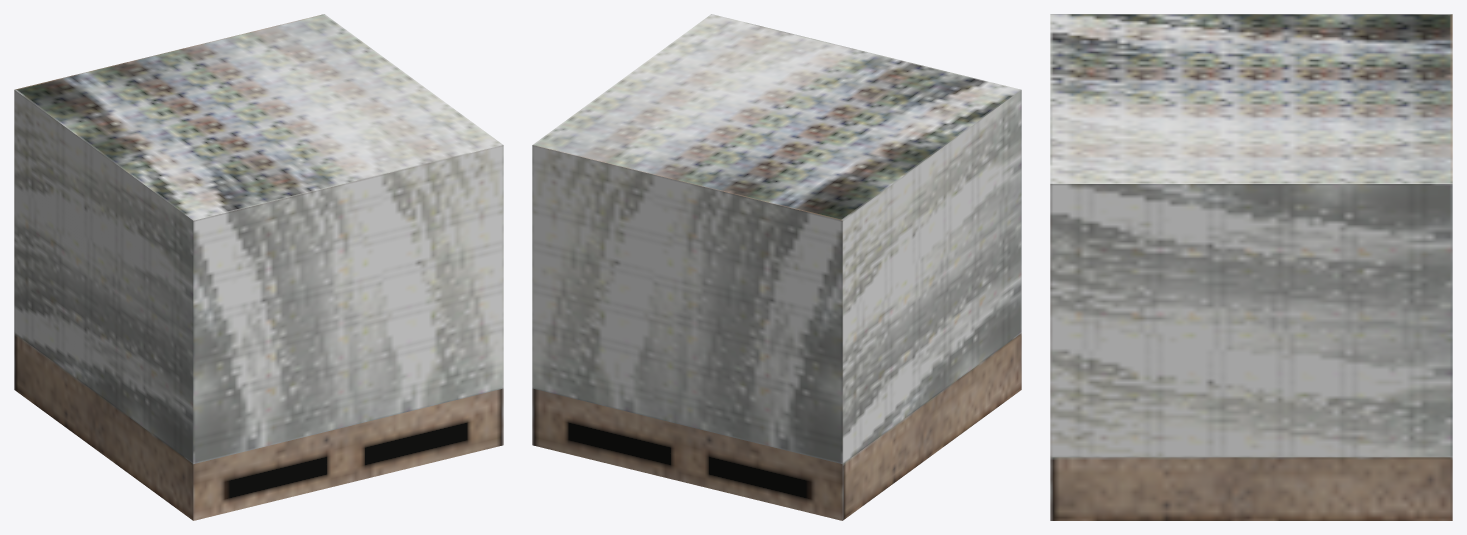
File: PaletteMoney01B.obj
3 views of the same model, side by side, from view 1: azimuth 30°, elevation 25°; view 2: azimuth 150°, elevation 25°; view 3: azimuth 270°, elevation 25° (orthographic). The views are drawn at different scales.
Parts seen in each view (by area): view 1: PaletteMoney01B; view 2: PaletteMoney01B; view 3: PaletteMoney01B.
Boxes of the visible parts, x1=… form: PaletteMoney01B: x1=14, y1=14, x2=503, y2=520; PaletteMoney01B: x1=532, y1=14, x2=1021, y2=520; PaletteMoney01B: x1=1050, y1=14, x2=1452, y2=520.
Size of the model in its own units: 2 by 1.85 by 2.
